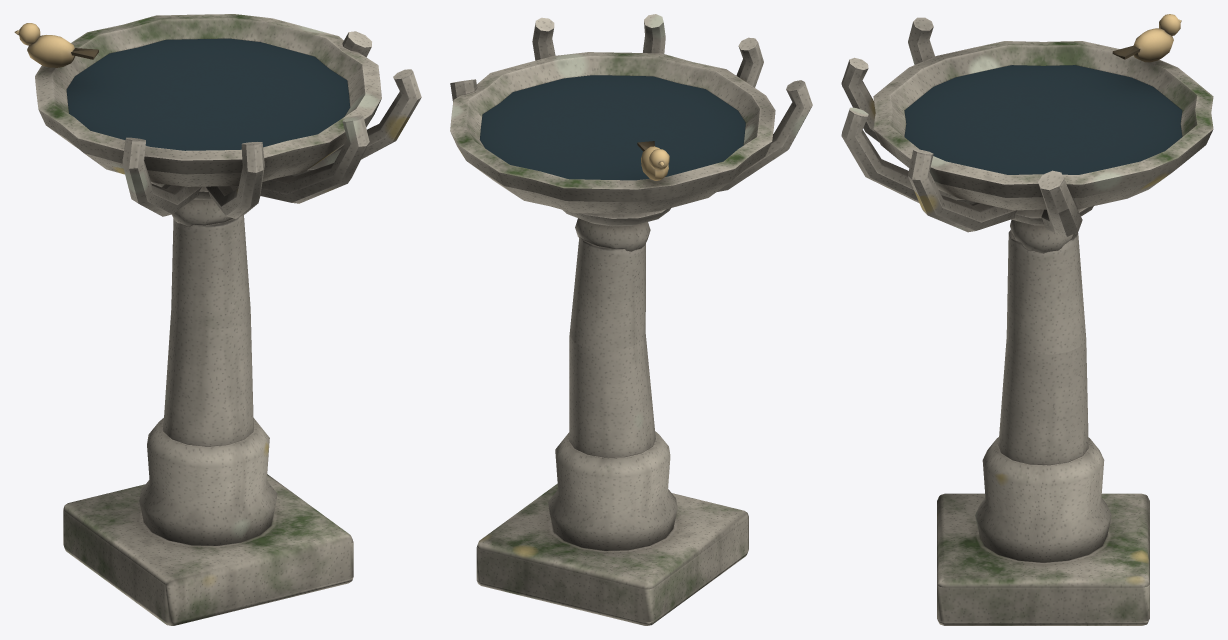
Rendered from BirdBath.fbx.
The picture shows the model from 3 angles, left to right: view 1: azimuth 30°, elevation 25°; view 2: azimuth 150°, elevation 25°; view 3: azimuth 270°, elevation 25°; orthographic projection. The views are drawn at different scales.
Visible parts, largest first — view 1: BirdBath_Main, BirdBath_Glass; view 2: BirdBath_Main, BirdBath_Glass; view 3: BirdBath_Main, BirdBath_Glass.
Part boxes in pixels (x1,y1,x2,y2): BirdBath_Main: (14, 14, 421, 625); BirdBath_Glass: (66, 38, 350, 150); BirdBath_Main: (450, 14, 812, 625); BirdBath_Glass: (480, 75, 745, 180); BirdBath_Main: (841, 14, 1213, 625); BirdBath_Glass: (904, 65, 1182, 174).
Bounding box in the file's own units: 236 × 374 × 245.
